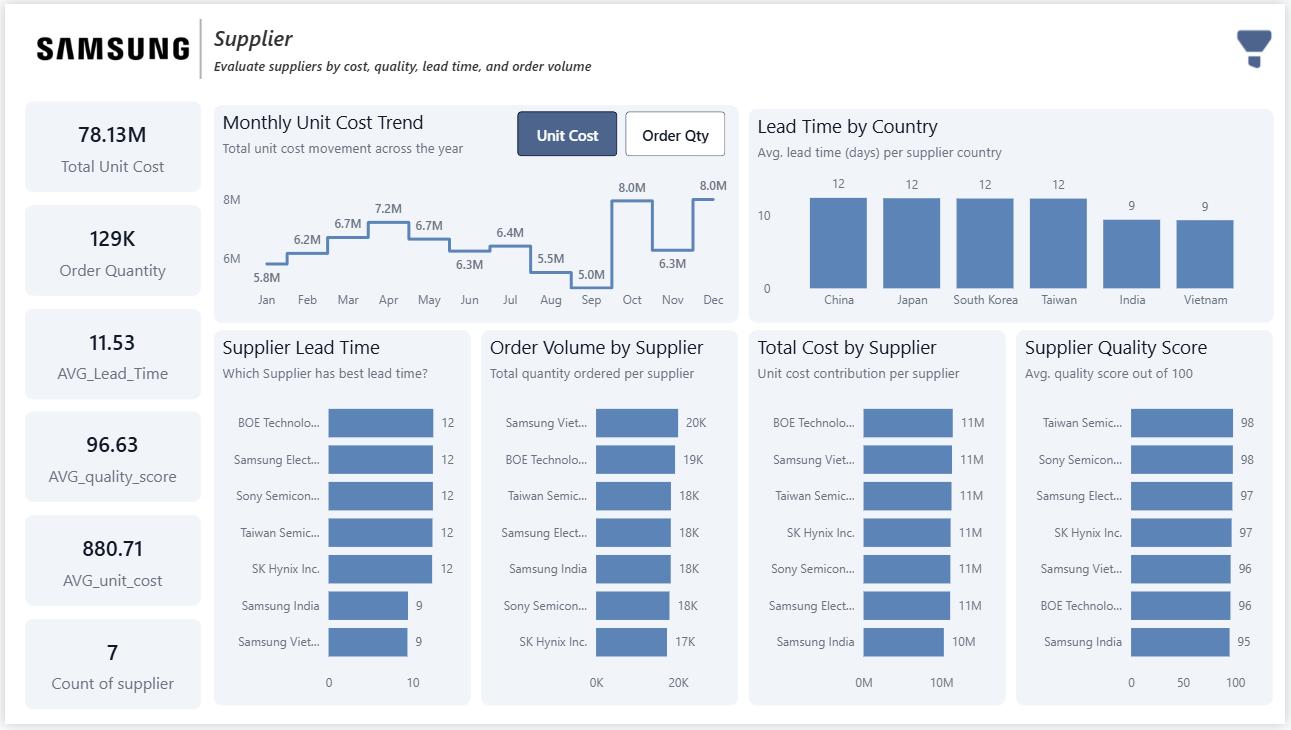

Layout of this report page (visuals, bound fields, positions):
{"tool":"powerbi","page":{"name":"Supplier","canvas":[1280,720],"ordinal":2},"visuals":[{"type":"shape","title":"Supplier","box":[208.8,18.8,618.8,61.2],"z":0},{"type":"lineChart","title":"Monthly Unit Cost Trend","fields":{"Y":["fact_procurement.Total_Unit_Cost"],"Category":["dim_date.Month_short"]},"box":[208.8,101.2,525,217.5],"z":0,"group":"g1"},{"type":"shape","box":[171.2,15,48.8,60],"z":1000},{"type":"advancedSlicerVisual","fields":{"Values":["Cost_Qty_Supplier.Cost_Qty_Supplier"]},"box":[507.9,102.1,218.8,55],"z":1000,"group":"g1"},{"type":"image","box":[20,8.8,168.8,71.2],"z":2000},{"type":"card","fields":{"Values":["fact_procurement.AVG_quality_score"]},"box":[20,408,176,90],"z":3000},{"type":"card","fields":{"Values":["fact_procurement.AVG_unit_cost"]},"box":[20,511.5,176,90],"z":4000},{"type":"card","fields":{"Values":["CountNonNull(dim_supplier.supplier_id)"]},"box":[20,615,176,90],"z":5000},{"type":"card","fields":{"Values":["Measure Table.AVG_Lead_Time"]},"box":[20,304.5,176,90],"z":6000},{"type":"card","fields":{"Values":["Measure Table.Order_Quantity"]},"box":[20,201,176,90],"z":7000},{"type":"card","fields":{"Values":["fact_procurement.Total_Unit_Cost"]},"box":[20,97.5,176,90],"z":8000},{"type":"clusteredBarChart","title":"Supplier Lead Time","fields":{"Category":["dim_supplier.supplier_name"],"Y":["Measure Table.AVG_Lead_Time"]},"box":[209,326.7,257,375],"z":9000},{"type":"clusteredBarChart","title":"Order Volume by Supplier","fields":{"Category":["dim_supplier.supplier_name"],"Y":["Measure Table.Order_Quantity"]},"box":[476.5,326.7,257,375],"z":10000},{"type":"clusteredBarChart","title":"Total Cost by Supplier","fields":{"Category":["dim_supplier.supplier_name"],"Y":["fact_procurement.Total_Unit_Cost"]},"box":[744,326.7,257,375],"z":11000},{"type":"clusteredBarChart","title":"Supplier Quality Score","fields":{"Category":["dim_supplier.supplier_name"],"Y":["fact_procurement.AVG_quality_score"]},"box":[1011.5,326.7,257,375],"z":12000},{"type":"group","id":"g1","title":"Group 1","box":[208.8,101.2,525,217.5],"z":13000},{"type":"columnChart","title":"Lead Time by Country","fields":{"Category":["dim_supplier.country"],"Y":["Measure Table.AVG_Lead_Time"]},"box":[743.8,105,525,213.8],"z":14000},{"type":"actionButton","title":"Button-open","box":[1218.8,8.8,61.2,71.2],"z":15000}]}

Visuals, with their boxes in screenshot pixels (x1, y1, x2, y2), scaled from the page's 1280x720 canvas onto the 1291x730 screenshot:
"Supplier" shape: (x1=211, y1=19, x2=835, y2=81)
"Monthly Unit Cost Trend" lineChart: (x1=211, y1=103, x2=740, y2=323)
shape: (x1=173, y1=15, x2=222, y2=76)
advancedSlicerVisual - Cost_Qty_Supplier.Cost_Qty_Supplier: (x1=512, y1=104, x2=733, y2=159)
image: (x1=20, y1=9, x2=190, y2=81)
card - fact_procurement.AVG_quality_score: (x1=20, y1=414, x2=198, y2=505)
card - fact_procurement.AVG_unit_cost: (x1=20, y1=519, x2=198, y2=610)
card - CountNonNull(dim_supplier.supplier_id): (x1=20, y1=624, x2=198, y2=715)
card - Measure Table.AVG_Lead_Time: (x1=20, y1=309, x2=198, y2=400)
card - Measure Table.Order_Quantity: (x1=20, y1=204, x2=198, y2=295)
card - fact_procurement.Total_Unit_Cost: (x1=20, y1=99, x2=198, y2=190)
"Supplier Lead Time" clusteredBarChart: (x1=211, y1=331, x2=470, y2=711)
"Order Volume by Supplier" clusteredBarChart: (x1=481, y1=331, x2=740, y2=711)
"Total Cost by Supplier" clusteredBarChart: (x1=750, y1=331, x2=1010, y2=711)
"Supplier Quality Score" clusteredBarChart: (x1=1020, y1=331, x2=1279, y2=711)
"Group 1" group: (x1=211, y1=103, x2=740, y2=323)
"Lead Time by Country" columnChart: (x1=750, y1=106, x2=1280, y2=323)
"Button-open" actionButton: (x1=1229, y1=9, x2=1290, y2=81)
